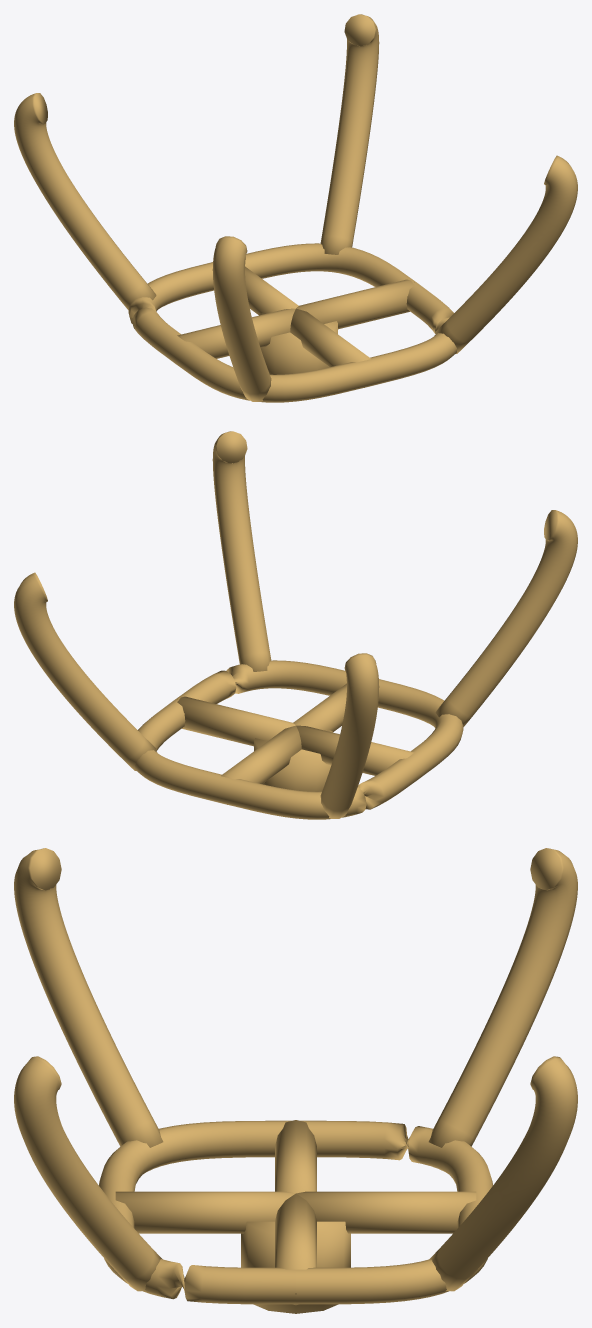
The model's file is stuller-lg-500061581-4-prong.glb.
3 views of the same model, one above another, from view 1: azimuth 30°, elevation 25°; view 2: azimuth 150°, elevation 25°; view 3: azimuth 270°, elevation 25° (orthographic). The views are drawn at different scales.
Parts seen in each view (by area): view 1: Metal.133, Metal.138, Metal.139, Metal.141, Metal.140, Metal.134, Metal.137, Metal.136, Metal.132, Metal.135; view 2: Metal.133, Metal.141, Metal.140, Metal.138, Metal.139, Metal.134, Metal.135, Metal.136, Metal.132, Metal.137; view 3: Metal.133, Metal.139, Metal.140, Metal.141, Metal.138, Metal.135, Metal.137, Metal.132, Metal.134, Metal.136.
Part boxes in pixels (x1=…): Metal.133: x1=128, y1=243, x2=456, y2=402; Metal.138: x1=320, y1=14, x2=379, y2=254; Metal.139: x1=14, y1=93, x2=156, y2=310; Metal.141: x1=435, y1=155, x2=577, y2=353; Metal.140: x1=212, y1=236, x2=271, y2=401; Metal.134: x1=296, y1=279, x2=414, y2=329; Metal.137: x1=290, y1=308, x2=370, y2=387; Metal.136: x1=177, y1=308, x2=295, y2=358; Metal.132: x1=259, y1=313, x2=337, y2=374; Metal.135: x1=245, y1=266, x2=298, y2=314; Metal.133: x1=135, y1=660, x2=463, y2=819; Metal.141: x1=212, y1=431, x2=271, y2=671; Metal.140: x1=435, y1=510, x2=577, y2=727; Metal.138: x1=14, y1=572, x2=156, y2=770; Metal.139: x1=320, y1=653, x2=379, y2=818; Metal.134: x1=177, y1=696, x2=295, y2=746; Metal.135: x1=221, y1=725, x2=301, y2=804; Metal.136: x1=296, y1=725, x2=414, y2=775; Metal.132: x1=254, y1=730, x2=332, y2=791; Metal.137: x1=293, y1=683, x2=346, y2=731; Metal.133: x1=99, y1=1120, x2=492, y2=1304; Metal.139: x1=428, y1=848, x2=577, y2=1147; Metal.140: x1=14, y1=848, x2=163, y2=1147; Metal.141: x1=14, y1=1056, x2=162, y2=1291; Metal.138: x1=429, y1=1056, x2=577, y2=1291; Metal.135: x1=296, y1=1191, x2=476, y2=1233; Metal.137: x1=115, y1=1191, x2=295, y2=1233; Metal.132: x1=241, y1=1221, x2=350, y2=1313; Metal.134: x1=275, y1=1193, x2=316, y2=1305; Metal.136: x1=275, y1=1120, x2=316, y2=1193.
Bounding box in the file's own units: 5.96 × 4.05 × 6.14.
